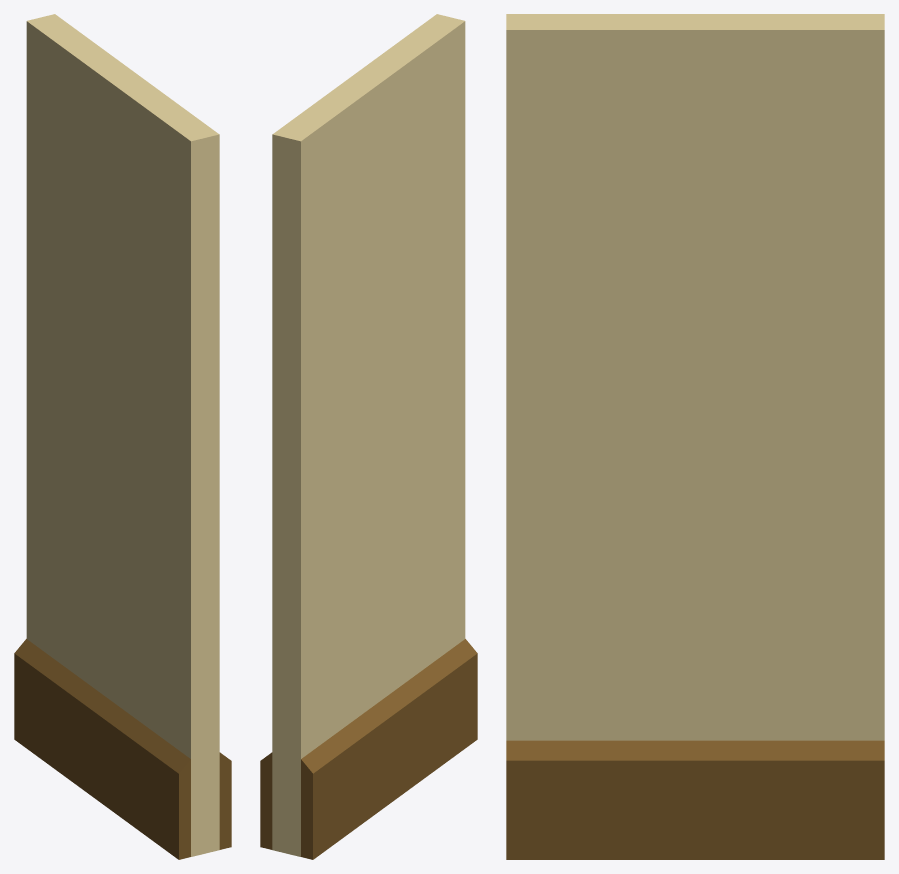
File: kit_Wall_interior_1tile.glb
The picture shows the model from 3 angles, left to right: view 1: azimuth 30°, elevation 25°; view 2: azimuth 150°, elevation 25°; view 3: azimuth 270°, elevation 25°; orthographic projection. The views are drawn at different scales.
Parts seen in each view (by area): view 1: wall; view 2: wall; view 3: wall.
Boxes of the visible parts, x1,y1,x2,y2 form: wall: (14, 14, 231, 859); wall: (260, 14, 477, 859); wall: (506, 14, 884, 859).
Bounding box in the file's own units: 0.1854 × 2.4 × 1.
